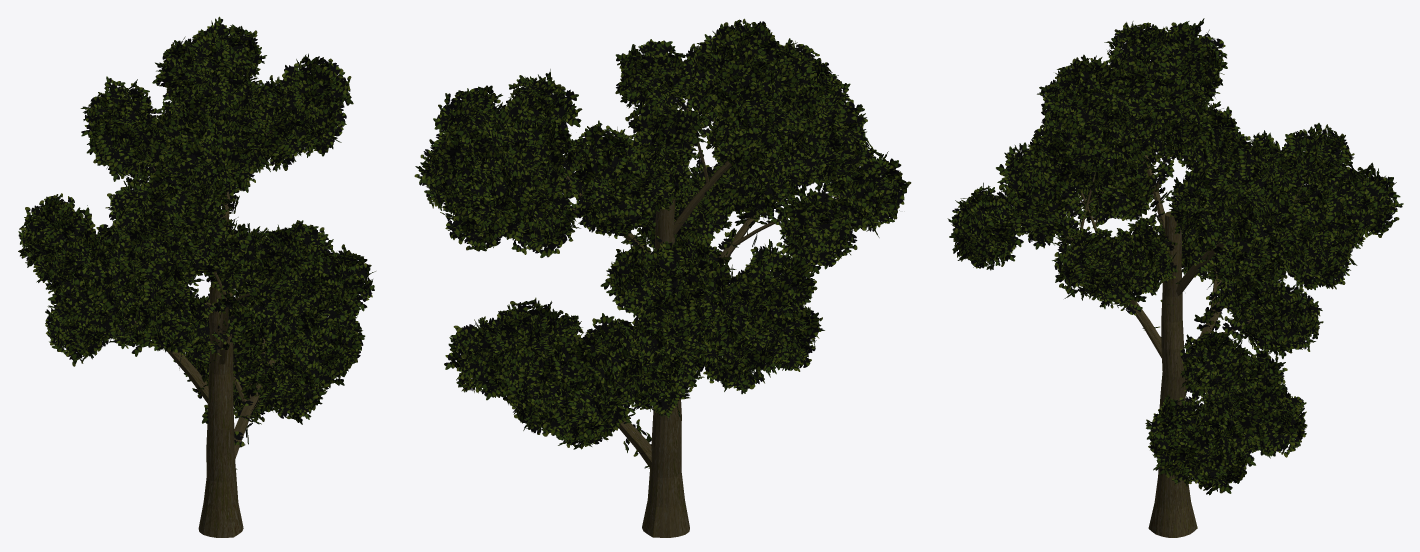
The model's file is evergreen_broad_v01.fbx.
3 renders of one model, left to right at view 1: azimuth 30°, elevation 25°; view 2: azimuth 150°, elevation 25°; view 3: azimuth 270°, elevation 25°, orthographic. The views are drawn at different scales.
Visible parts, largest first — view 1: evergreen_broad_v01; view 2: evergreen_broad_v01; view 3: evergreen_broad_v01.
Part boxes in pixels (x1,y1,x2,y2): evergreen_broad_v01: [18, 16, 375, 537]; evergreen_broad_v01: [414, 18, 911, 537]; evergreen_broad_v01: [947, 18, 1403, 537].
Size of the model in its own units: 1464 by 1733 by 1934.
2 materials, 2 textured.
